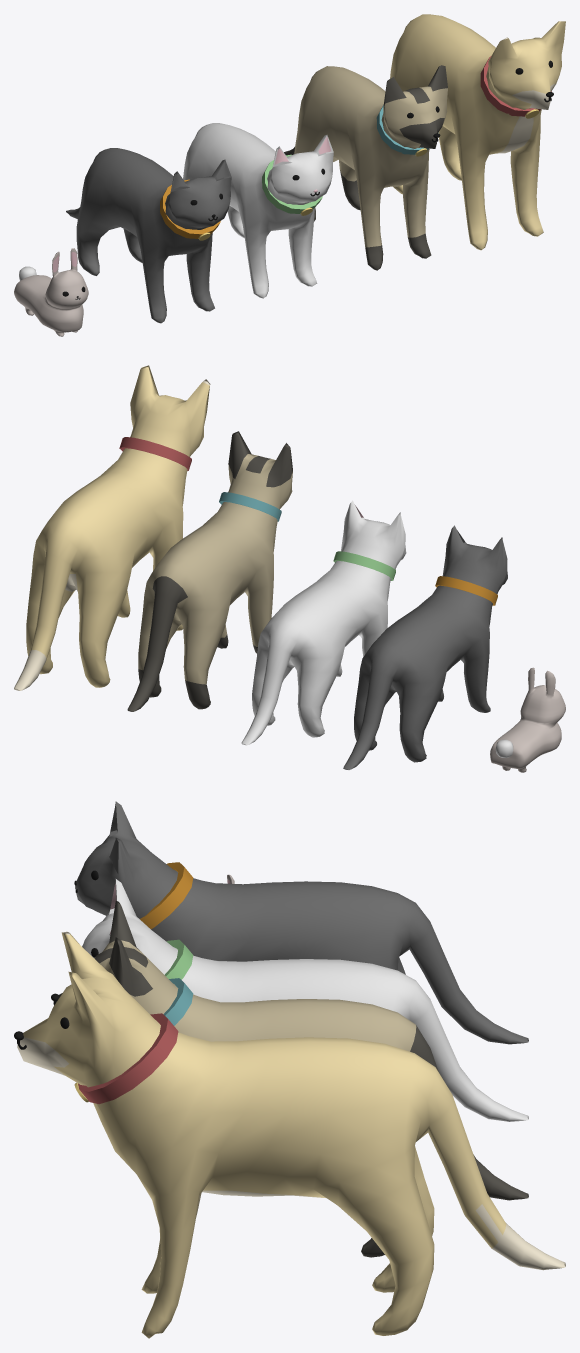
The model's file is pets.fbx.
3 views of the same model, one above another, from view 1: azimuth 30°, elevation 25°; view 2: azimuth 150°, elevation 25°; view 3: azimuth 270°, elevation 25° (orthographic). The views are drawn at different scales.
Visible parts, largest first — view 1: sarikopek, kahvekopek, siyahkedi, beyazkedi, tavsan; view 2: sarikopek, kahvekopek, siyahkedi, beyazkedi, tavsan; view 3: sarikopek, siyahkedi, beyazkedi, kahvekopek.
Boxes of the visible parts, bbox=[...] form: sarikopek: bbox=[390, 14, 565, 250]; kahvekopek: bbox=[284, 65, 447, 270]; siyahkedi: bbox=[66, 148, 231, 323]; beyazkedi: bbox=[183, 123, 333, 298]; tavsan: bbox=[14, 248, 88, 336]; sarikopek: bbox=[14, 365, 210, 690]; kahvekopek: bbox=[127, 431, 292, 711]; siyahkedi: bbox=[343, 525, 507, 769]; beyazkedi: bbox=[241, 500, 406, 745]; tavsan: bbox=[490, 667, 565, 772]; sarikopek: bbox=[14, 931, 565, 1338]; siyahkedi: bbox=[74, 801, 528, 1044]; beyazkedi: bbox=[82, 879, 528, 1121]; kahvekopek: bbox=[51, 901, 528, 1257].
Bounding box in the file's own units: 14.76 × 7.09 × 9.43.
